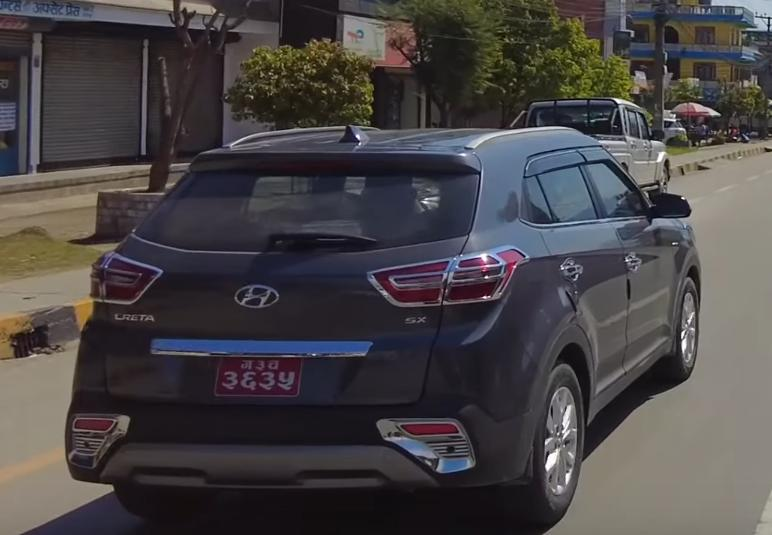car: (73, 123, 701, 516)
